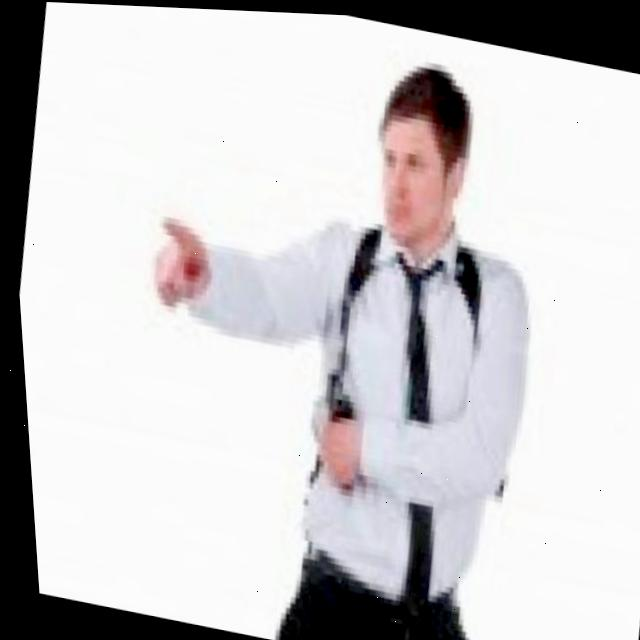pistol: (254, 354, 373, 523)
